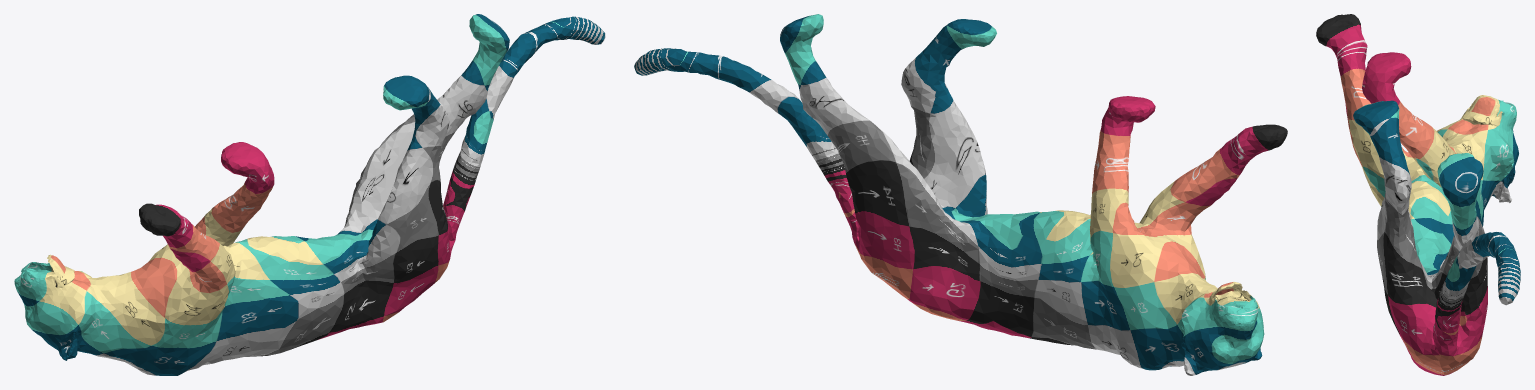
Rendered from hippo_05-cougar_02.obj.
3 renders of one model, left to right at view 1: azimuth 30°, elevation 25°; view 2: azimuth 150°, elevation 25°; view 3: azimuth 270°, elevation 25°, orthographic. The views are drawn at different scales.
Visible parts, largest first — view 1: hippo_05-cougar_02_export; view 2: hippo_05-cougar_02_export; view 3: hippo_05-cougar_02_export.
Boxes of the visible parts, left/top/right/bottom form: hippo_05-cougar_02_export: left=14, top=14, right=605, bottom=375; hippo_05-cougar_02_export: left=634, top=14, right=1287, bottom=375; hippo_05-cougar_02_export: left=1316, top=14, right=1520, bottom=375.
Bounding box in the file's own units: 1.32 × 0.5767 × 0.3827.
